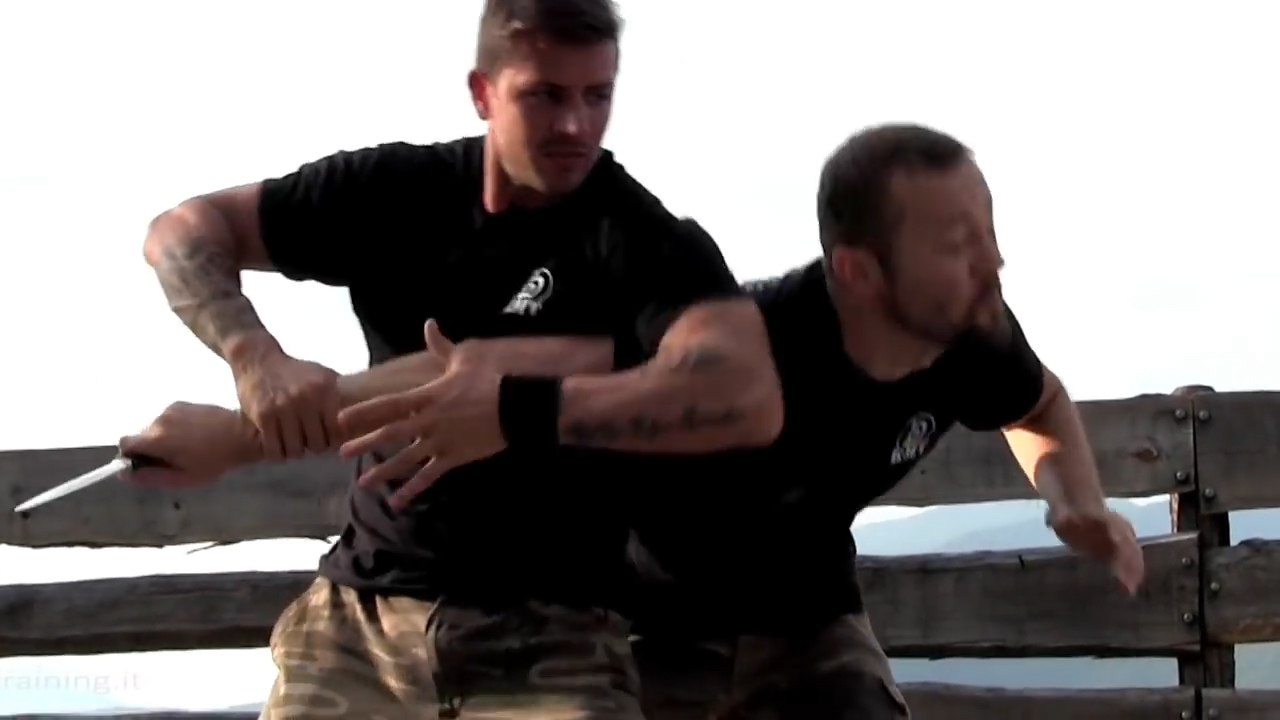knife: (1, 398, 206, 519)
